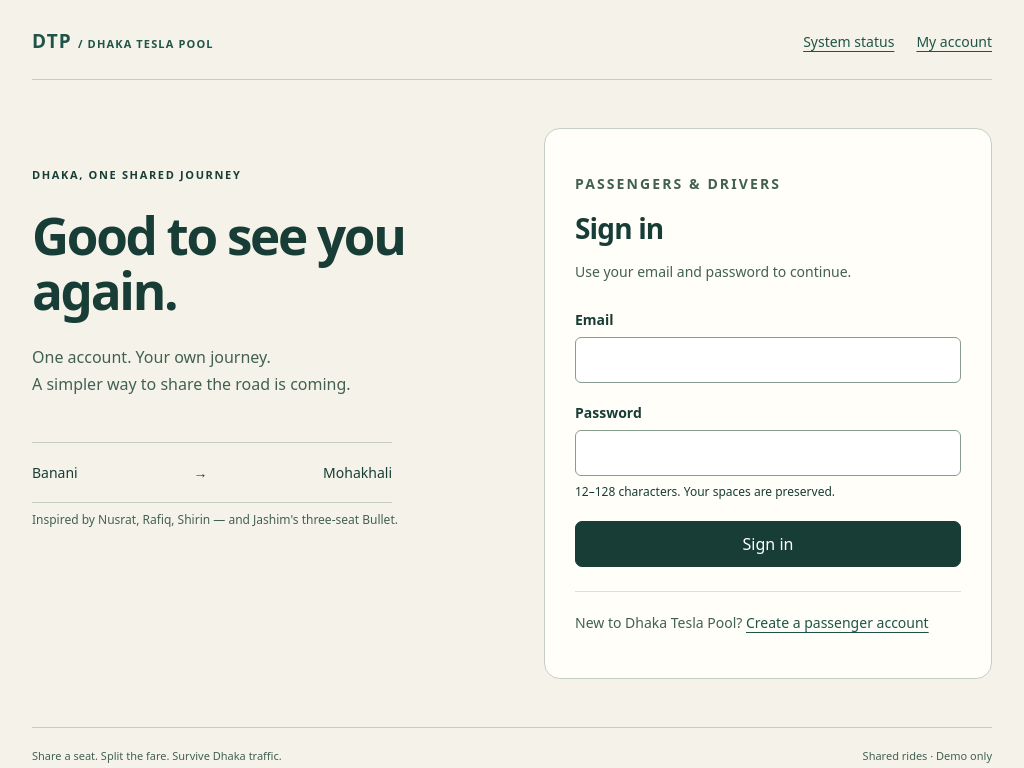
Test: authentication UI › preserves email, clears password, and never replays a failed credentials mutation
The width and height of the screenshot is (1024, 768).
In the field labelled "Email": [768, 360] box [575, 337, 961, 383], type "nusrat@demo.dhaka.test"
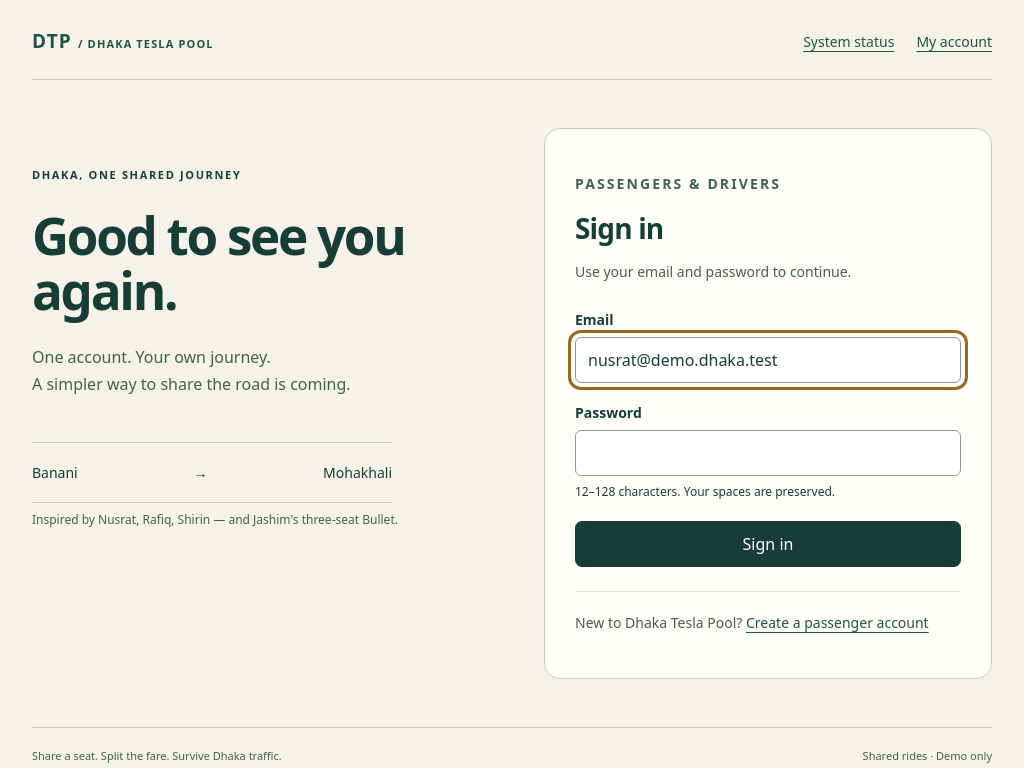
In the password field labelled "Password": [768, 453] box [575, 430, 961, 476], type "DemoOnly!Dhaka2026"
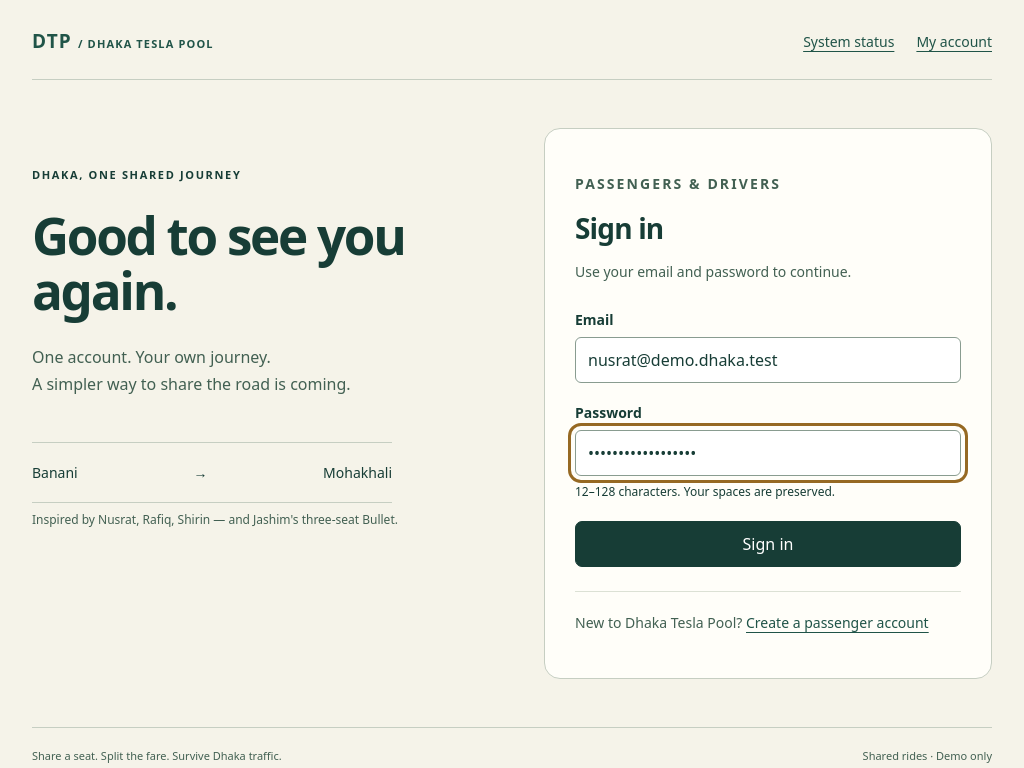
Click the button "Sign in": [768, 544] box [575, 521, 961, 567]
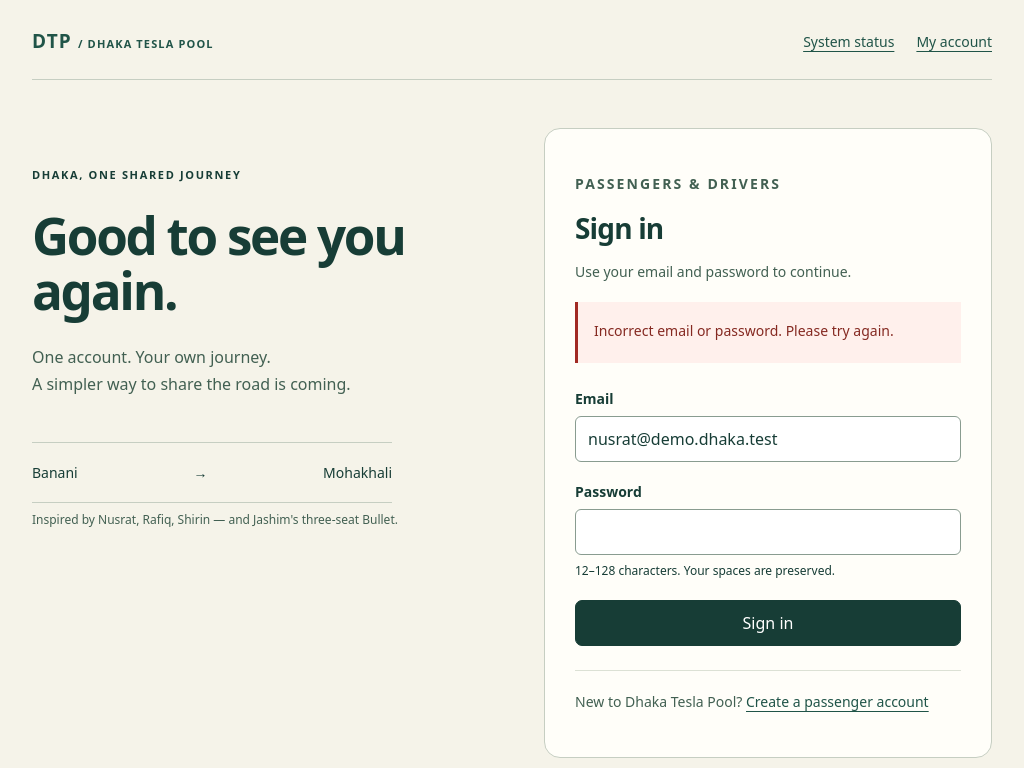
expect the message "Incorrect email or password. Please try again." is shown: met, box [575, 302, 961, 363]
expect the password field labelled "Password" is empty: met, box [575, 509, 961, 555]
expect the message shows "Incorrect email or password.": met, box [594, 321, 894, 340]
